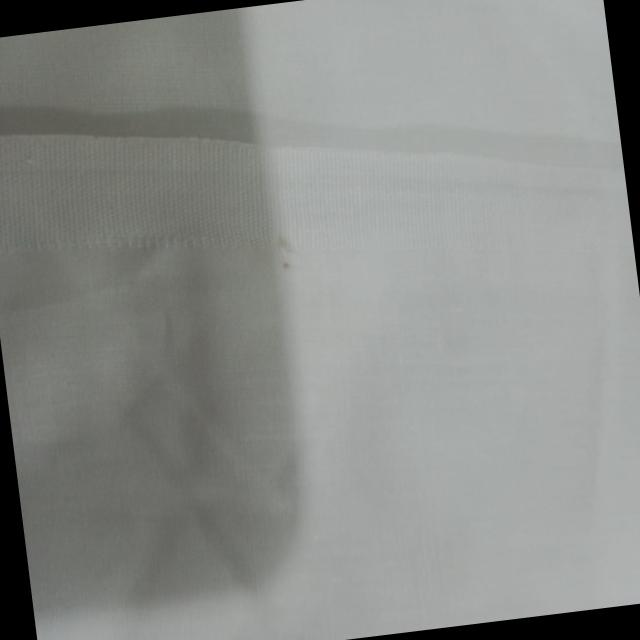stain: (260, 213, 308, 291)
